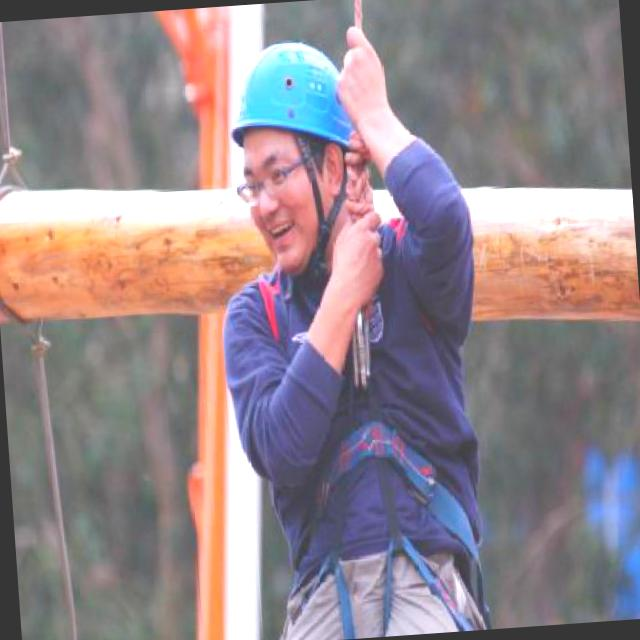Person: (176, 4, 502, 640)
